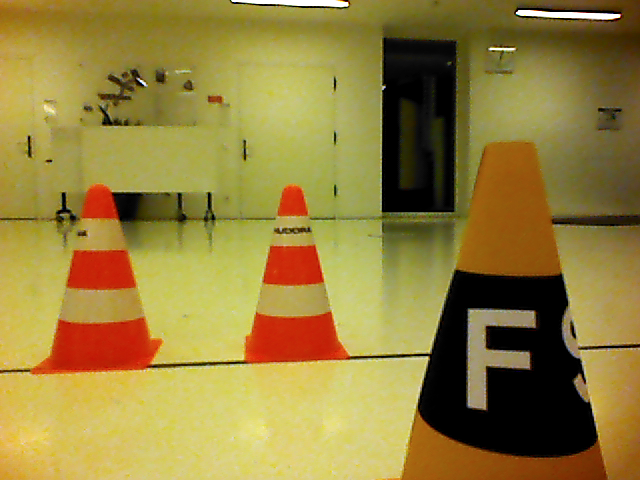orangeconesmall: (49, 183, 154, 365), (248, 184, 342, 357)
